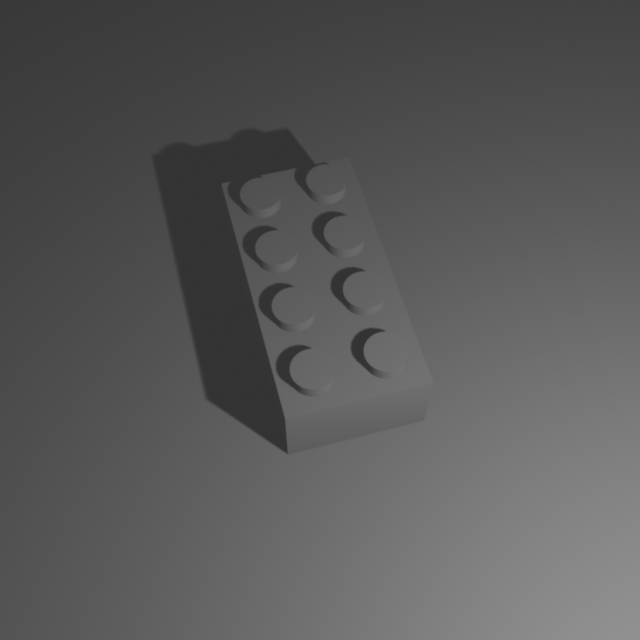lego_2x4: (220, 148, 435, 455)
